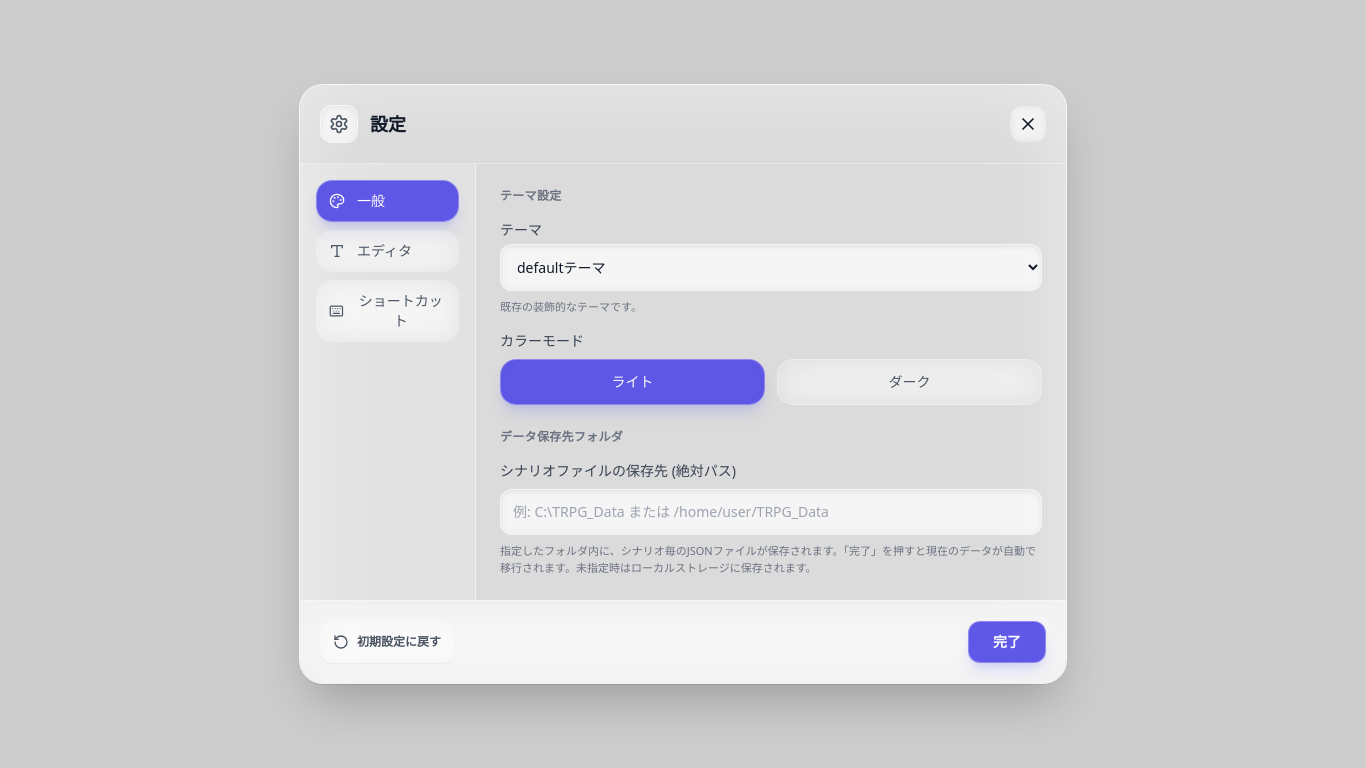
it: SettingsModal › shows an error for relative data paths and does not close
Step 1. Type "relative/path" into the field with placeholder "例: C:\\TRPG_Data または /home/user/TRPG_Data" → (771, 512), box [500, 489, 1042, 535]
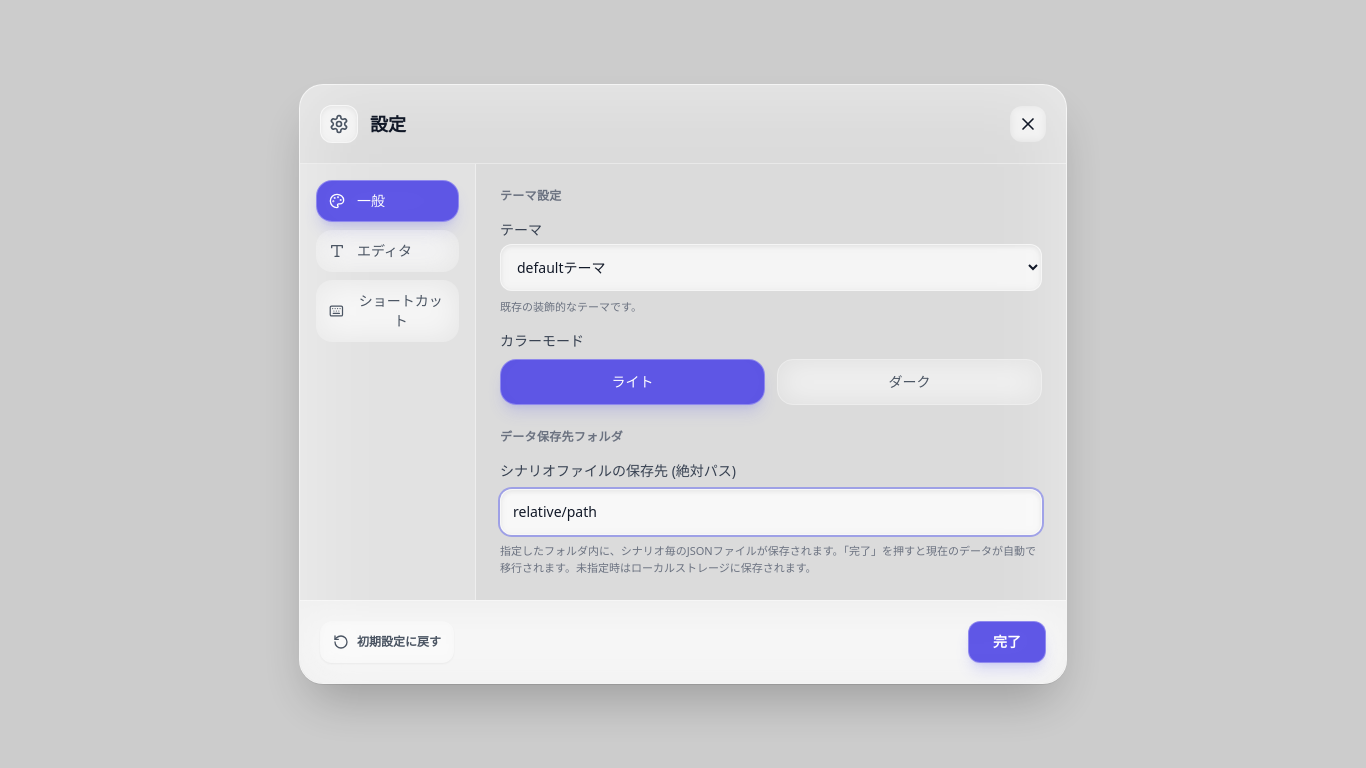
Step 2. Click the button "完了" → (1007, 642), box [968, 621, 1046, 663]
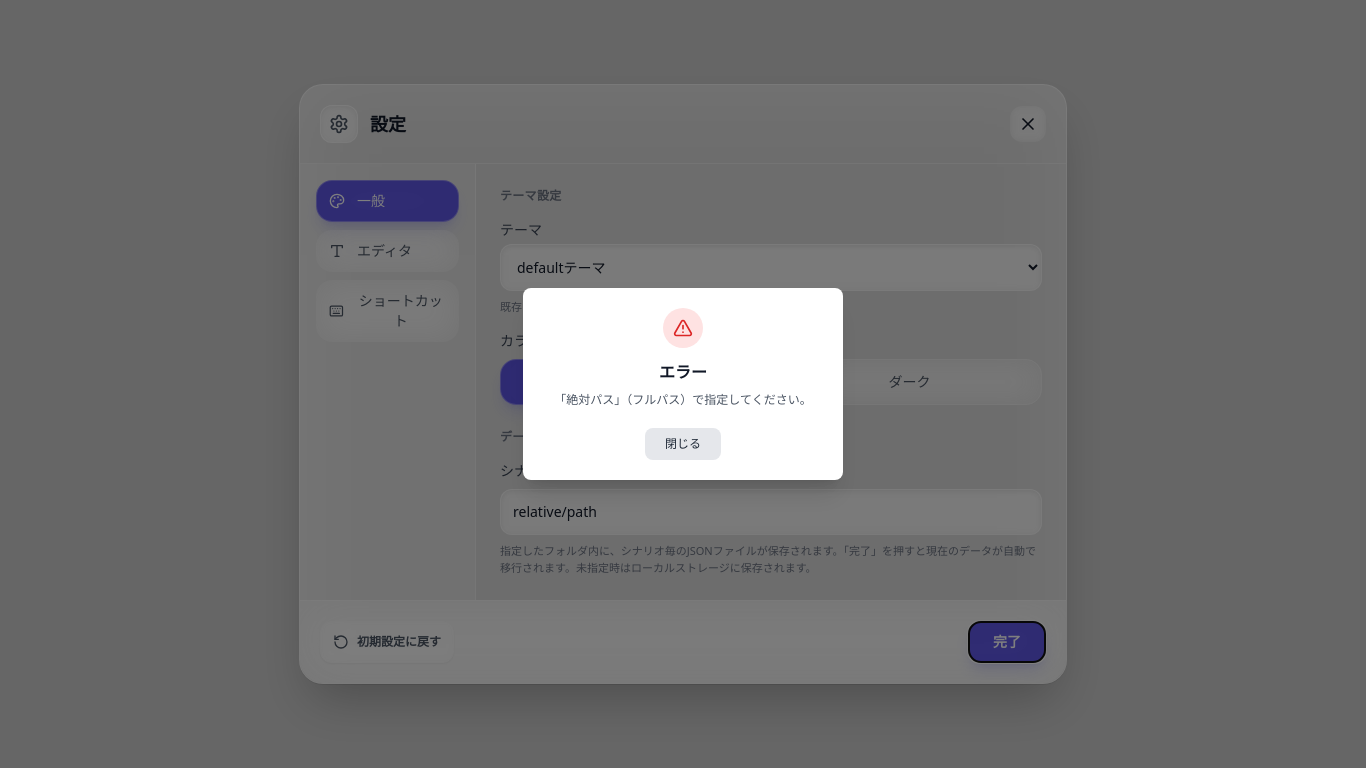
Result: the text "「絶対パス」（フルパス）で指定してください。" is shown at [543, 392, 823, 408]
